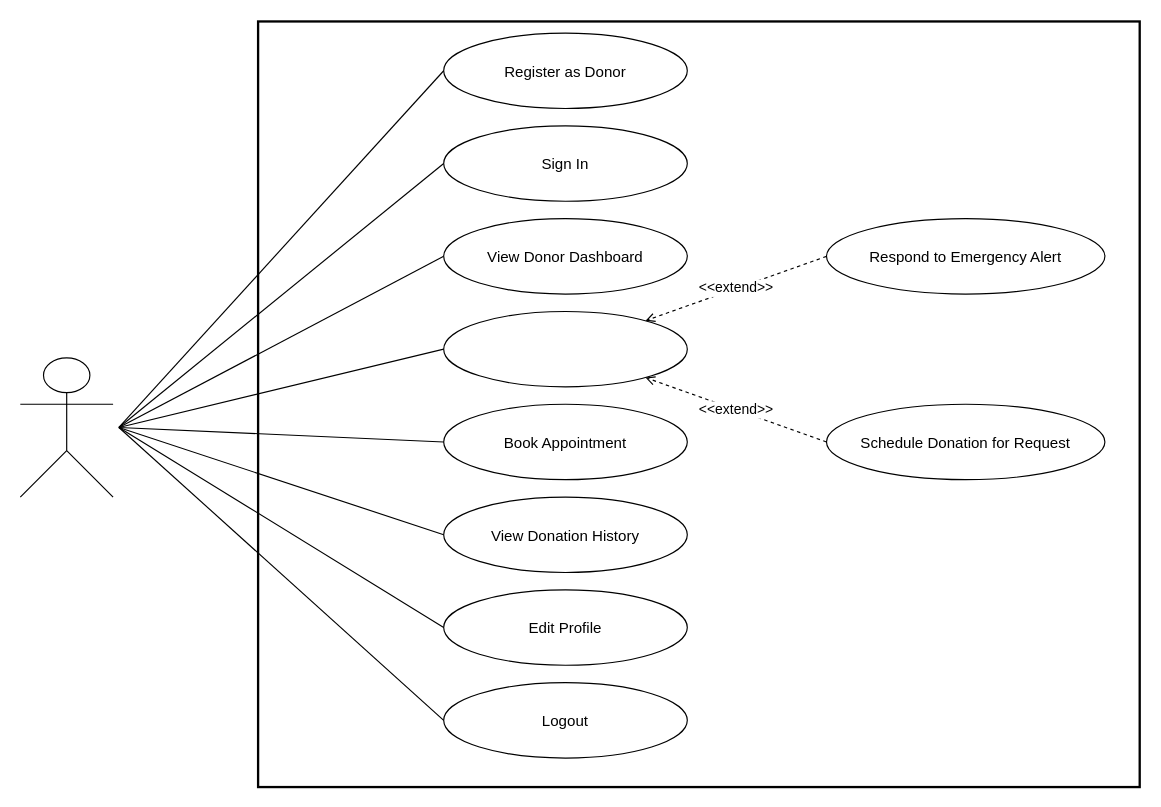
This 1161x807 diagram has some shape labels left out. The shapes that lost their labels are listed below. From the top down, each one's centre as x and y in pixels, then its label:
At point 565,348: "View Active Requests".
At point 66,427: "Donor".
